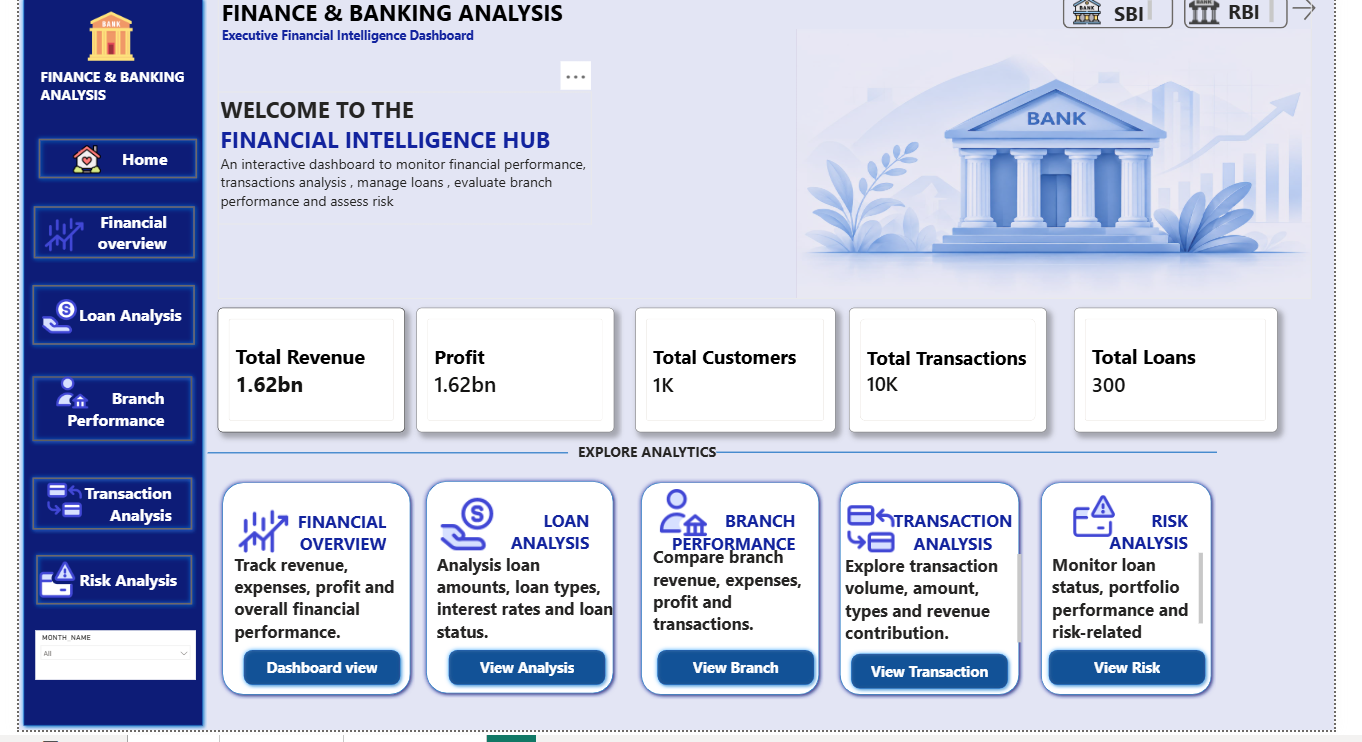

This screenshot's page, from the dashboard's own definition file:
{"tool":"powerbi","page":{"name":"Home","canvas":[2500,1400],"ordinal":0},"visuals":[{"type":"shape","box":[0,0,358,1400.3],"z":0},{"type":"textbox","box":[380.1,0,707.1,113.8],"z":0,"group":"g8"},{"type":"image","box":[2216.3,0,76.3,57.9],"z":0,"group":"g5"},{"type":"image","box":[1984.6,5.3,92.1,52.6],"z":0,"group":"g4"},{"type":"textbox","box":[36,133.5,306.8,99.4],"z":0,"group":"g6"},{"type":"cardVisual","fields":{"Data":["Table.Total Customers"]},"box":[1173.1,597.6,380.5,236.6],"z":0,"group":"g7"},{"type":"group","id":"g1","title":"Group 6","box":[379,922.1,375.3,421.4],"z":0,"group":"g9"},{"type":"textbox","box":[2295.3,2.6,97.4,57.9],"z":1000,"group":"g5"},{"type":"textbox","box":[2076.7,7.9,81.6,52.6],"z":1000,"group":"g4"},{"type":"textbox","box":[378,185.4,709.8,251.2],"z":1000,"group":"g8"},{"type":"actionButton","box":[28.2,265.5,319.1,93.2],"z":1000,"group":"g6"},{"type":"actionButton","box":[19.5,395.1,324.4,117.1],"z":1000},{"type":"cardVisual","fields":{"Data":["Table.Profit"]},"box":[756,597.6,375.6,236.6],"z":1000,"group":"g7"},{"type":"group","id":"g2","title":"Group 7","box":[767.1,918.6,373.8,421.1],"z":1000,"group":"g9"},{"type":"image","box":[1479.2,65.8,979.2,513.3],"z":2000,"group":"g8"},{"type":"image","box":[87.5,288.1,81.9,53.7],"z":2000,"group":"g6"},{"type":"actionButton","box":[17.1,543.9,326.8,131.7],"z":2000},{"type":"cardVisual","fields":{"Data":["Table.Total Transactions"]},"box":[1579.2,597.5,376.4,236.9],"z":2000,"group":"g7"},{"type":"group","id":"g3","title":"Group 9","box":[1175.7,922.1,1101.8,421.4],"z":2000,"group":"g9"},{"type":"image","box":[126.9,25.6,93.7,107.9],"z":3000,"group":"g6"},{"type":"cardVisual","fields":{"Data":["Table.Total Loans"]},"box":[2005.6,597.5,386.9,236.9],"z":3000,"group":"g7"},{"type":"actionButton","box":[17.1,909.8,322,117.1],"z":3000},{"type":"cardVisual","fields":{"Data":["Table.Total Revenue"]},"box":[378,597.6,356.1,236.6],"z":4000,"group":"g7"},{"type":"actionButton","box":[17.1,717.1,322,141.5],"z":4000},{"type":"actionButton","box":[24.4,1058.5,314.6,112.2],"z":5000},{"type":"textbox","box":[1058.2,847.5,297.9,63],"z":6000},{"type":"shape","box":[358.4,864.5,685.3,14.5],"z":7000},{"type":"shape","box":[1327,862.1,951.7,17],"z":8000},{"type":"actionButton","box":[2414.7,0,84.9,55.8],"z":9000},{"type":"shape","box":[379,922.1,375.3,421.4],"z":9000,"group":"g1"},{"type":"shape","box":[767.1,918.6,373.8,421.1],"z":10000,"group":"g10"},{"type":"slicer","fields":{"Values":["DIM_DATE.MONTH_NAME"]},"box":[31.6,1210.8,305.3,94.8],"z":10000},{"type":"image","box":[42.1,421.1,86.9,73.7],"z":11000},{"type":"shape","box":[1175.7,922.1,356,421.4],"z":11000,"group":"g3"},{"type":"image","box":[18.4,579.1,115.8,65.8],"z":12000},{"type":"shape","box":[1553.5,922.1,358.4,421.4],"z":12000,"group":"g3"},{"type":"image","box":[39.5,726.5,121.1,60.5],"z":13000},{"type":"shape","box":[1936.1,922.1,341.4,421.4],"z":13000,"group":"g3"},{"type":"image","box":[50,929.1,73.7,65.8],"z":14000},{"type":"image","box":[31.6,1079.2,84.2,68.4],"z":15000},{"type":"actionButton","box":[1984.6,0,210.6,65.8],"z":16000},{"type":"actionButton","title":"RBI","box":[2216.3,0,197.4,65.8],"z":17000},{"type":"group","id":"g4","title":"Group 1","box":[1984.6,5.3,173.7,55.3],"z":18000},{"type":"group","id":"g5","title":"Group 2","box":[2216.3,0,176.4,60.5],"z":19000},{"type":"group","id":"g6","title":"Group 3","box":[28.2,25.6,319.1,333.1],"z":20000},{"type":"group","id":"g7","title":"Group 4","box":[378,597.5,2014.6,236.9],"z":21000},{"type":"image","box":[414.7,976.6,102.7,94.8],"z":21000,"group":"g1"},{"type":"group","id":"g8","title":"Group 5","box":[378,0,2080.4,579.1],"z":22000},{"type":"image","box":[796.1,958.1,115.8,100],"z":22000,"group":"g10"},{"type":"group","id":"g9","title":"Group 10","box":[379,918.6,1898.5,424.8],"z":23000},{"type":"image","box":[1204.3,942.4,121.1,89.5],"z":23000,"group":"g3"},{"type":"image","box":[1555.5,974.5,131.6,89.5],"z":24000,"group":"g3"},{"type":"textbox","box":[405.3,1058.1,350.1,200],"z":24000},{"type":"image","box":[1983.5,955.6,123.7,79],"z":25000,"group":"g3"},{"type":"shape","box":[418.5,1239.7,315.9,84.2],"z":25000},{"type":"shape","box":[808.1,1239.7,315.9,84.2],"z":26000},{"type":"shape","box":[1950.4,1239.7,315.9,84.2],"z":27000},{"type":"shape","box":[1574,1245,315.9,84.2],"z":28000},{"type":"shape","box":[1205.5,1239.7,315.9,84.2],"z":29000},{"type":"textbox","box":[789.6,1058.1,352.7,181.6],"z":30000},{"type":"textbox","box":[1200.3,1045,302.7,181.6],"z":31000},{"type":"textbox","box":[1958.3,1058.1,297.4,179],"z":32000},{"type":"group","id":"g10","title":"Group 8","box":[767.1,918.6,373.8,421.1],"z":32003,"group":"g2"},{"type":"textbox","box":[1566.1,1060.8,344.8,179],"z":33000}]}

Visuals, with their boxes on the page's 2500x1400 design canvas (x1, y1, x2, y2). These are canvas units, not pixel positions in the 1362x742 screenshot, which may show the page scaled, cropped or inside an application window:
shape: 0,0,358,1400
textbox: 380,0,1087,114
image: 2216,0,2293,58
image: 1985,5,2077,58
textbox: 36,134,343,233
cardVisual - Table.Total Customers: 1173,598,1554,834
"Group 6" group: 379,922,754,1344
textbox: 2295,3,2393,60
textbox: 2077,8,2158,60
textbox: 378,185,1088,437
actionButton: 28,266,347,359
actionButton: 20,395,344,512
cardVisual - Table.Profit: 756,598,1132,834
"Group 7" group: 767,919,1141,1340
image: 1479,66,2458,579
image: 88,288,169,342
actionButton: 17,544,344,676
cardVisual - Table.Total Transactions: 1579,598,1956,834
"Group 9" group: 1176,922,2278,1344
image: 127,26,221,134
cardVisual - Table.Total Loans: 2006,598,2392,834
actionButton: 17,910,339,1027
cardVisual - Table.Total Revenue: 378,598,734,834
actionButton: 17,717,339,859
actionButton: 24,1058,339,1171
textbox: 1058,848,1356,910
shape: 358,864,1044,879
shape: 1327,862,2279,879
actionButton: 2415,0,2500,56
shape: 379,922,754,1344
shape: 767,919,1141,1340
slicer - DIM_DATE.MONTH_NAME: 32,1211,337,1306
image: 42,421,129,495
shape: 1176,922,1532,1344
image: 18,579,134,645
shape: 1554,922,1912,1344
image: 40,726,161,787
shape: 1936,922,2278,1344
image: 50,929,124,995
image: 32,1079,116,1148
actionButton: 1985,0,2195,66
"RBI" actionButton: 2216,0,2414,66
"Group 1" group: 1985,5,2158,61
"Group 2" group: 2216,0,2393,60
"Group 3" group: 28,26,347,359
"Group 4" group: 378,598,2393,834
image: 415,977,517,1071
"Group 5" group: 378,0,2458,579
image: 796,958,912,1058
"Group 10" group: 379,919,2278,1343
image: 1204,942,1325,1032
image: 1556,974,1687,1064
textbox: 405,1058,755,1258
image: 1984,956,2107,1035
shape: 418,1240,734,1324
shape: 808,1240,1124,1324
shape: 1950,1240,2266,1324
shape: 1574,1245,1890,1329
shape: 1206,1240,1521,1324
textbox: 790,1058,1142,1240
textbox: 1200,1045,1503,1227
textbox: 1958,1058,2256,1237
"Group 8" group: 767,919,1141,1340
textbox: 1566,1061,1911,1240
